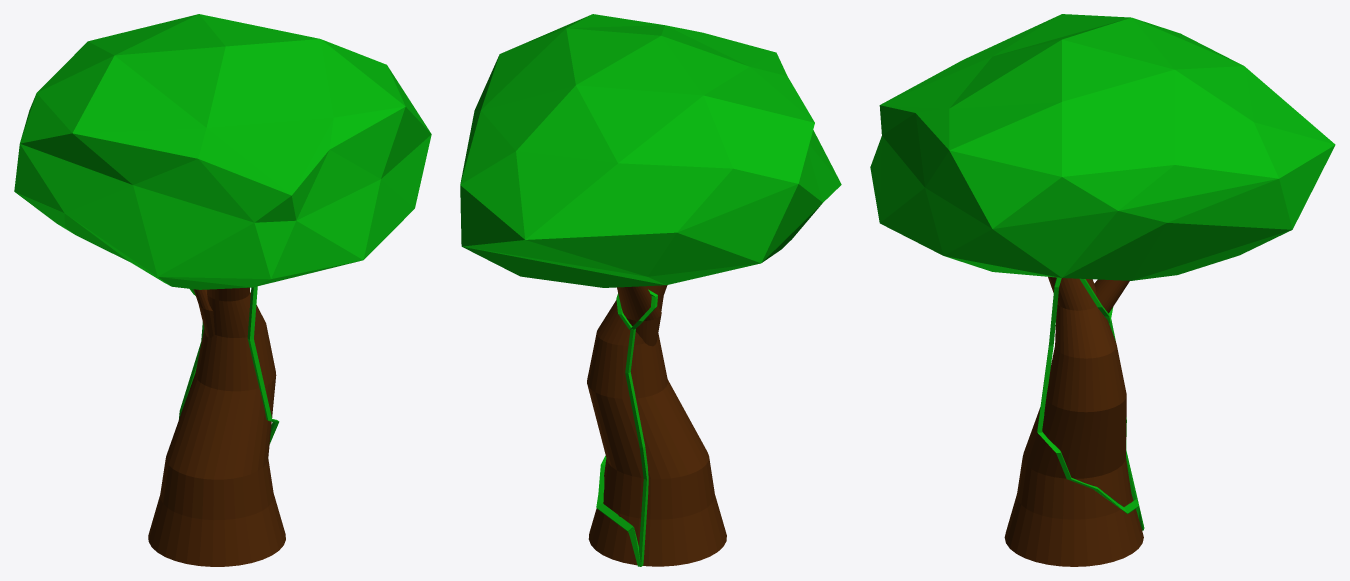
File: boomcyl2.glb
3 renders of one model, left to right at view 1: azimuth 30°, elevation 25°; view 2: azimuth 150°, elevation 25°; view 3: azimuth 270°, elevation 25°, orthographic.
Parts seen in each view (by area): view 1: Icosphere, Cylinder, Cube; view 2: Icosphere, Cylinder, Cube; view 3: Icosphere, Cylinder, Cube.
Part boxes in pixels (x1,y1,x2,y2): Icosphere: [14, 14, 431, 289]; Cylinder: [148, 287, 285, 566]; Cube: [179, 286, 279, 443]; Icosphere: [460, 14, 841, 287]; Cylinder: [587, 285, 726, 566]; Cube: [596, 289, 657, 566]; Icosphere: [870, 14, 1335, 280]; Cylinder: [1004, 277, 1143, 566]; Cube: [1037, 277, 1144, 530].
Bounding box in the file's own units: 17.2 × 23.75 × 20.05.
